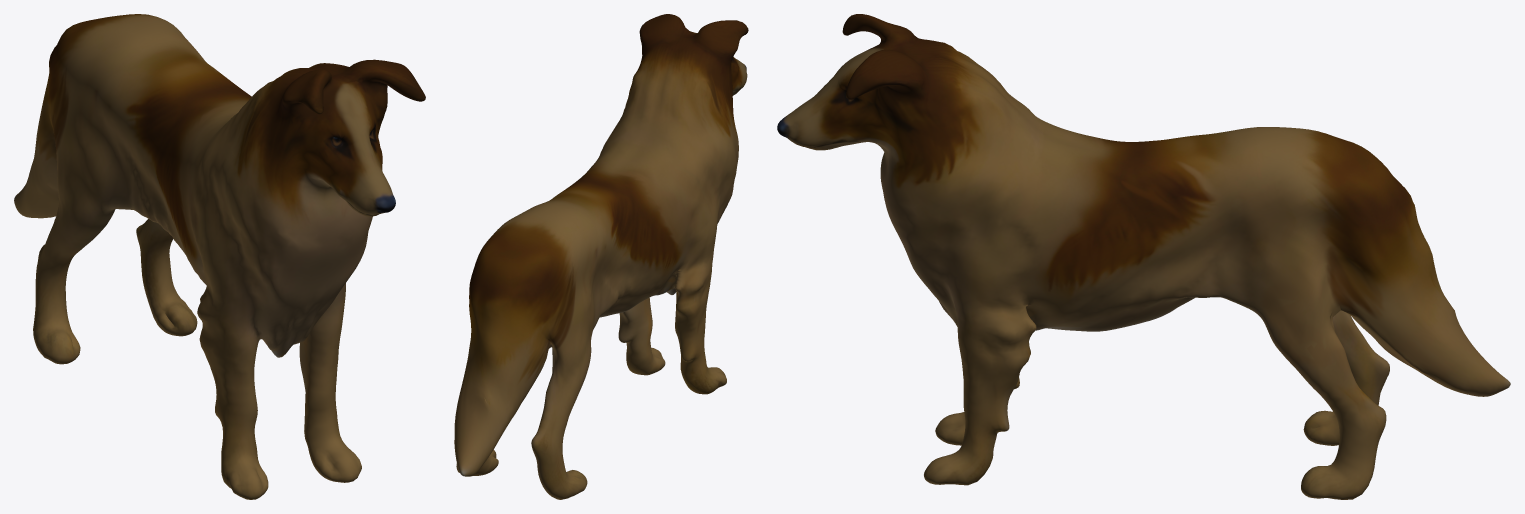
The model's file is Колли.gltf.
The picture shows the model from 3 angles, left to right: view 1: azimuth 30°, elevation 25°; view 2: azimuth 150°, elevation 25°; view 3: azimuth 270°, elevation 25°; orthographic projection. The views are drawn at different scales.
Parts seen in each view (by area): view 1: tripo_node_f56e1282; view 2: tripo_node_f56e1282; view 3: tripo_node_f56e1282.
Part boxes in pixels (bbox=[...]): tripo_node_f56e1282: bbox=[14, 14, 425, 499]; tripo_node_f56e1282: bbox=[454, 14, 748, 499]; tripo_node_f56e1282: bbox=[777, 14, 1510, 499].
Bounding box in the file's own units: 26.81 × 74.19 × 113.
Materials: 1 (1 with a texture image).
